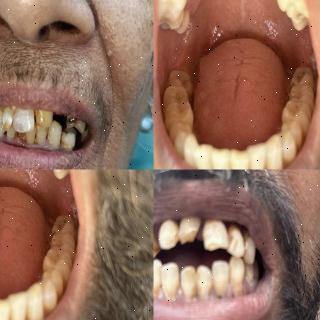calculus: (8, 134, 46, 145), (56, 139, 76, 151), (163, 284, 178, 300), (245, 274, 259, 290), (154, 283, 162, 298)
cavities: (294, 62, 310, 84), (55, 210, 71, 232), (173, 66, 189, 85)
maligned: (4, 110, 18, 124)
stains: (229, 222, 247, 252), (181, 271, 199, 297), (198, 271, 212, 299), (165, 273, 179, 299), (61, 112, 86, 126), (242, 232, 254, 261), (231, 268, 243, 294), (153, 270, 161, 298), (246, 265, 254, 287), (154, 232, 160, 256)
